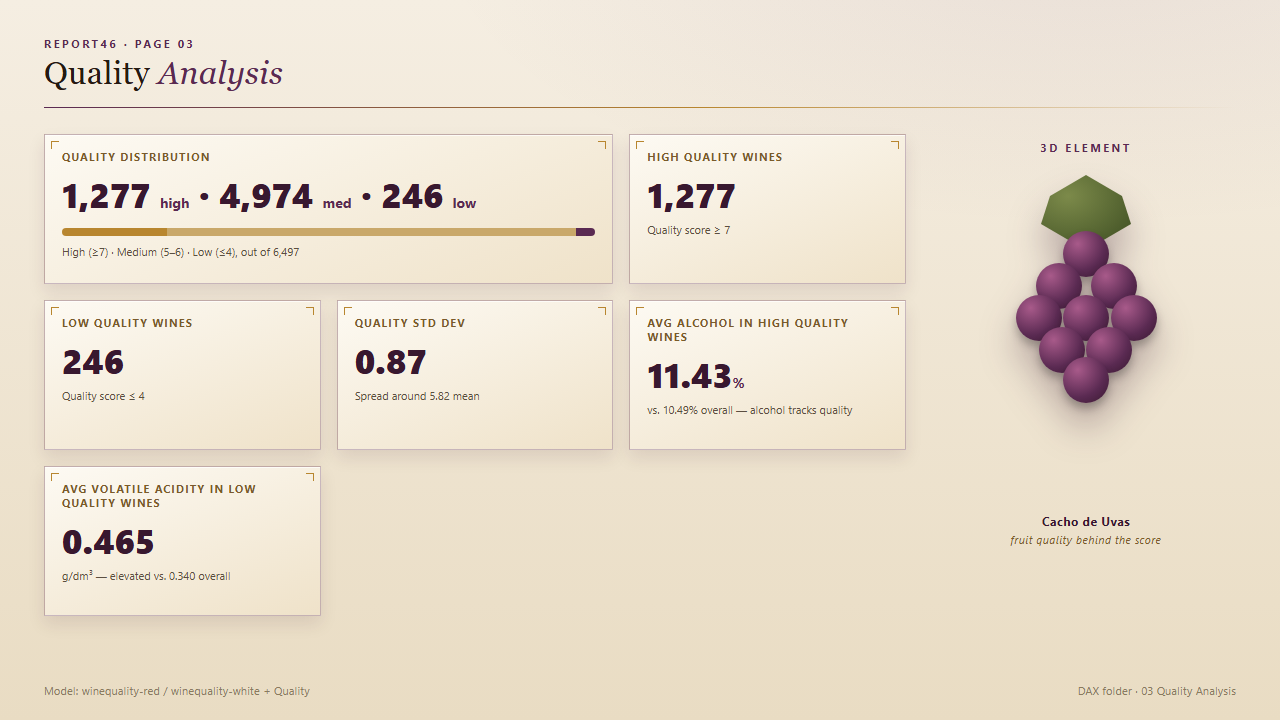

This screenshot's page, from the dashboard's own definition file:
{"tool":"powerbi","page":{"name":"Quality","canvas":[1280,720],"ordinal":2},"visuals":[{"type":"cardVisual","fields":{"Data":["_Measures.High Quality Wines","_Measures.Low Quality Wines","_Measures.Medium Quality Wines"]},"box":[49.9,123.9,560.8,142.1],"z":0},{"type":"pageNavigator","box":[158.7,669.6,799.6,49.9],"z":1000},{"type":"cardVisual","fields":{"Data":["_Measures.High Quality Wines"]},"box":[627.3,134.5,278.1,149.6],"z":2000},{"type":"cardVisual","fields":{"Data":["_Measures.Low Quality Wines"]},"box":[49.9,294.8,278.1,149.6],"z":3000},{"type":"cardVisual","fields":{"Data":["_Measures.Quality Std Dev"]},"box":[332.5,294.8,278.1,149.6],"z":3001},{"type":"cardVisual","fields":{"Data":["_Measures.Avg Alcohol in High Quality Wines"]},"box":[627.3,306.9,278.1,149.6],"z":3002},{"type":"cardVisual","fields":{"Data":["_Measures.Avg Volatile Acidity in Low Quality Wines"]},"box":[49.9,473.1,278.1,149.6],"z":3003}]}

Visuals, with their boxes in screenshot pixels (x1, y1, x2, y2), scaled from the page's 1280x720 canvas onto the 1280x720 screenshot:
cardVisual - _Measures.High Quality Wines x _Measures.Low Quality Wines: <region>50, 124, 611, 266</region>
pageNavigator: <region>159, 670, 958, 719</region>
cardVisual - _Measures.High Quality Wines: <region>627, 134, 905, 284</region>
cardVisual - _Measures.Low Quality Wines: <region>50, 295, 328, 444</region>
cardVisual - _Measures.Quality Std Dev: <region>332, 295, 611, 444</region>
cardVisual - _Measures.Avg Alcohol in High Quality Wines: <region>627, 307, 905, 456</region>
cardVisual - _Measures.Avg Volatile Acidity in Low Quality Wines: <region>50, 473, 328, 623</region>
